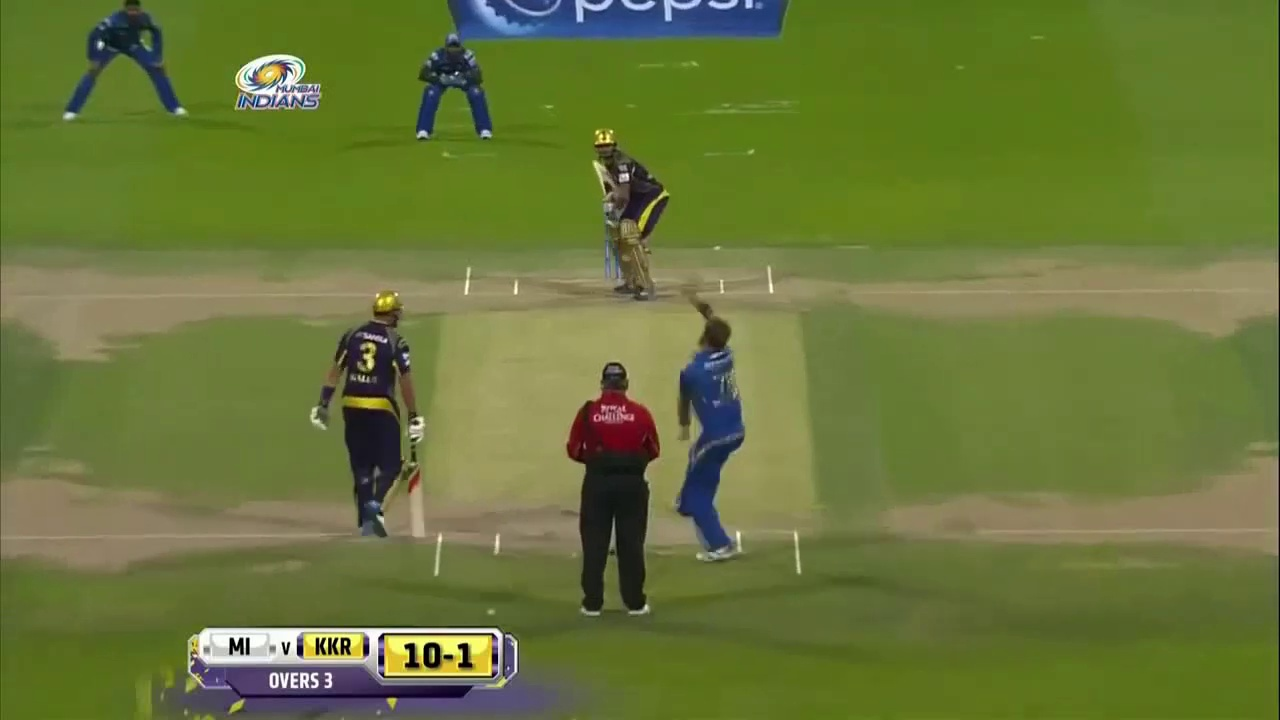bat: (409, 442, 428, 539), (592, 159, 611, 195)
